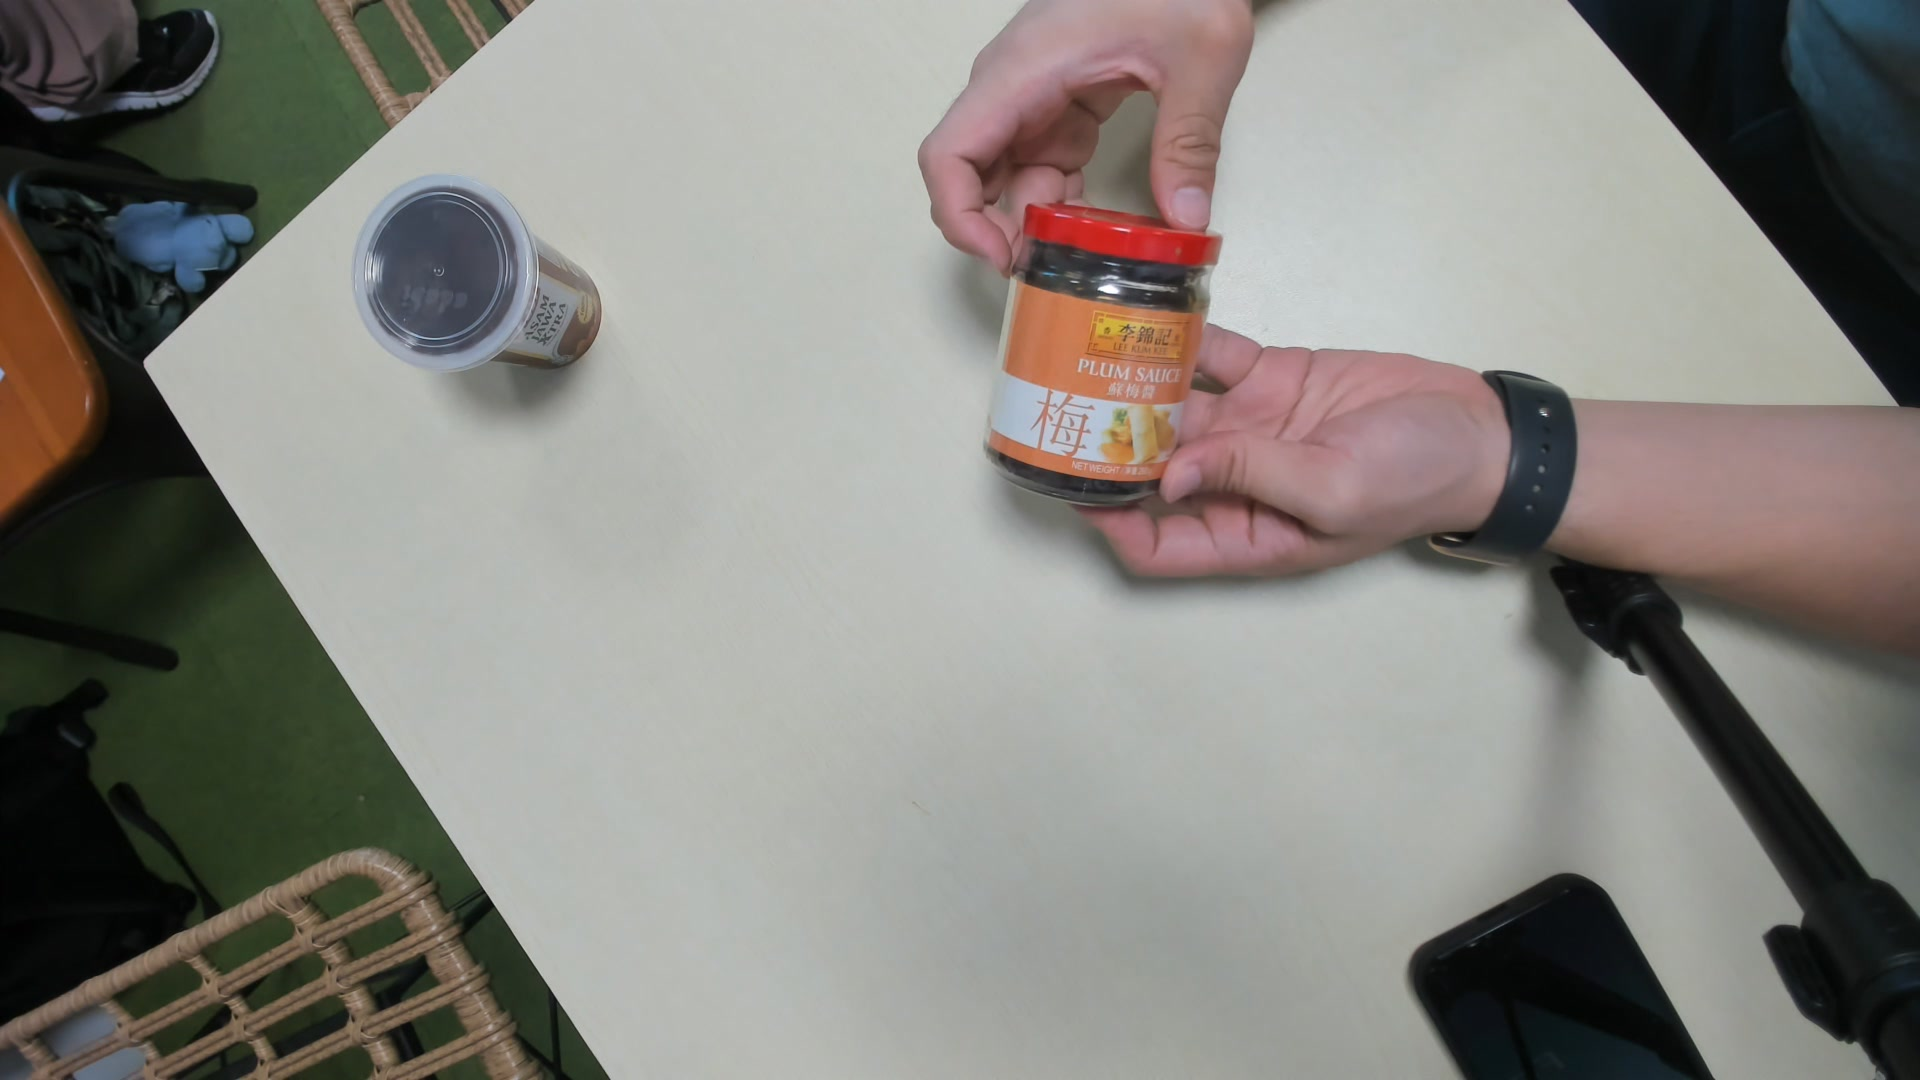OtherSauceDressing_200-299g_Halal_NonHealthy: (985, 200, 1218, 516)
